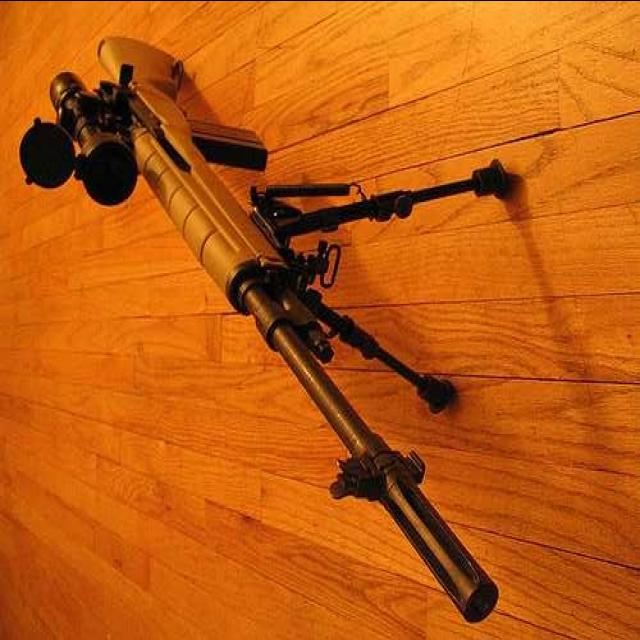heavyweapon: (14, 29, 539, 640)
